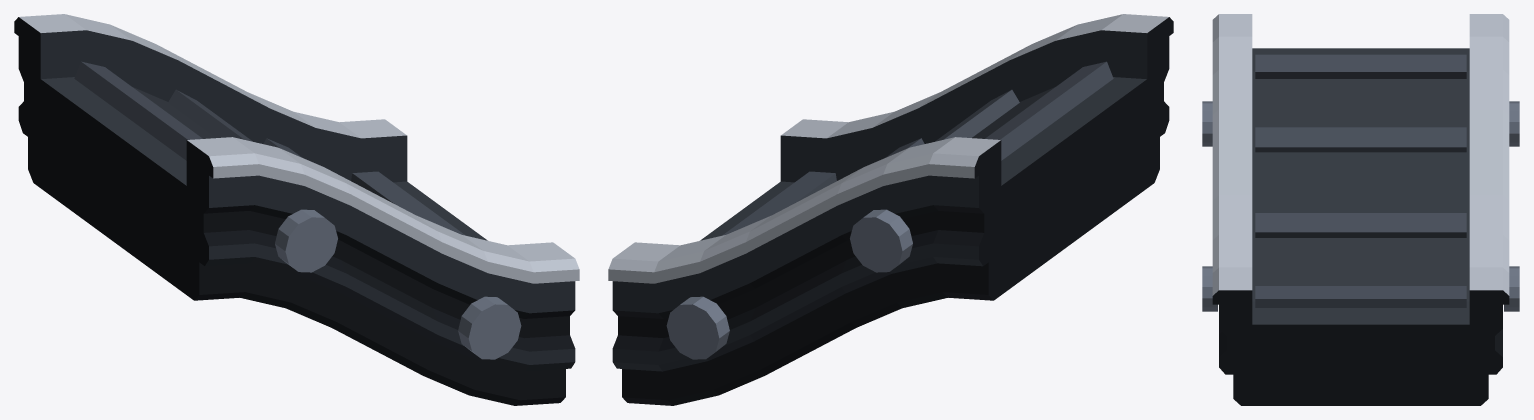
Rendered from belt-ramp-down.glb.
3 renders of one model, left to right at view 1: azimuth 30°, elevation 25°; view 2: azimuth 150°, elevation 25°; view 3: azimuth 270°, elevation 25°, orthographic. The views are drawn at different scales.
Visible parts, largest first — view 1: belt-ramp-down; view 2: belt-ramp-down; view 3: belt-ramp-down.
Part boxes in pixels (x1=…): belt-ramp-down: x1=14, y1=14, x2=579, y2=405; belt-ramp-down: x1=608, y1=14, x2=1173, y2=405; belt-ramp-down: x1=1202, y1=14, x2=1519, y2=405.
Size of the model in its own units: 1 by 0.905 by 1.01.
